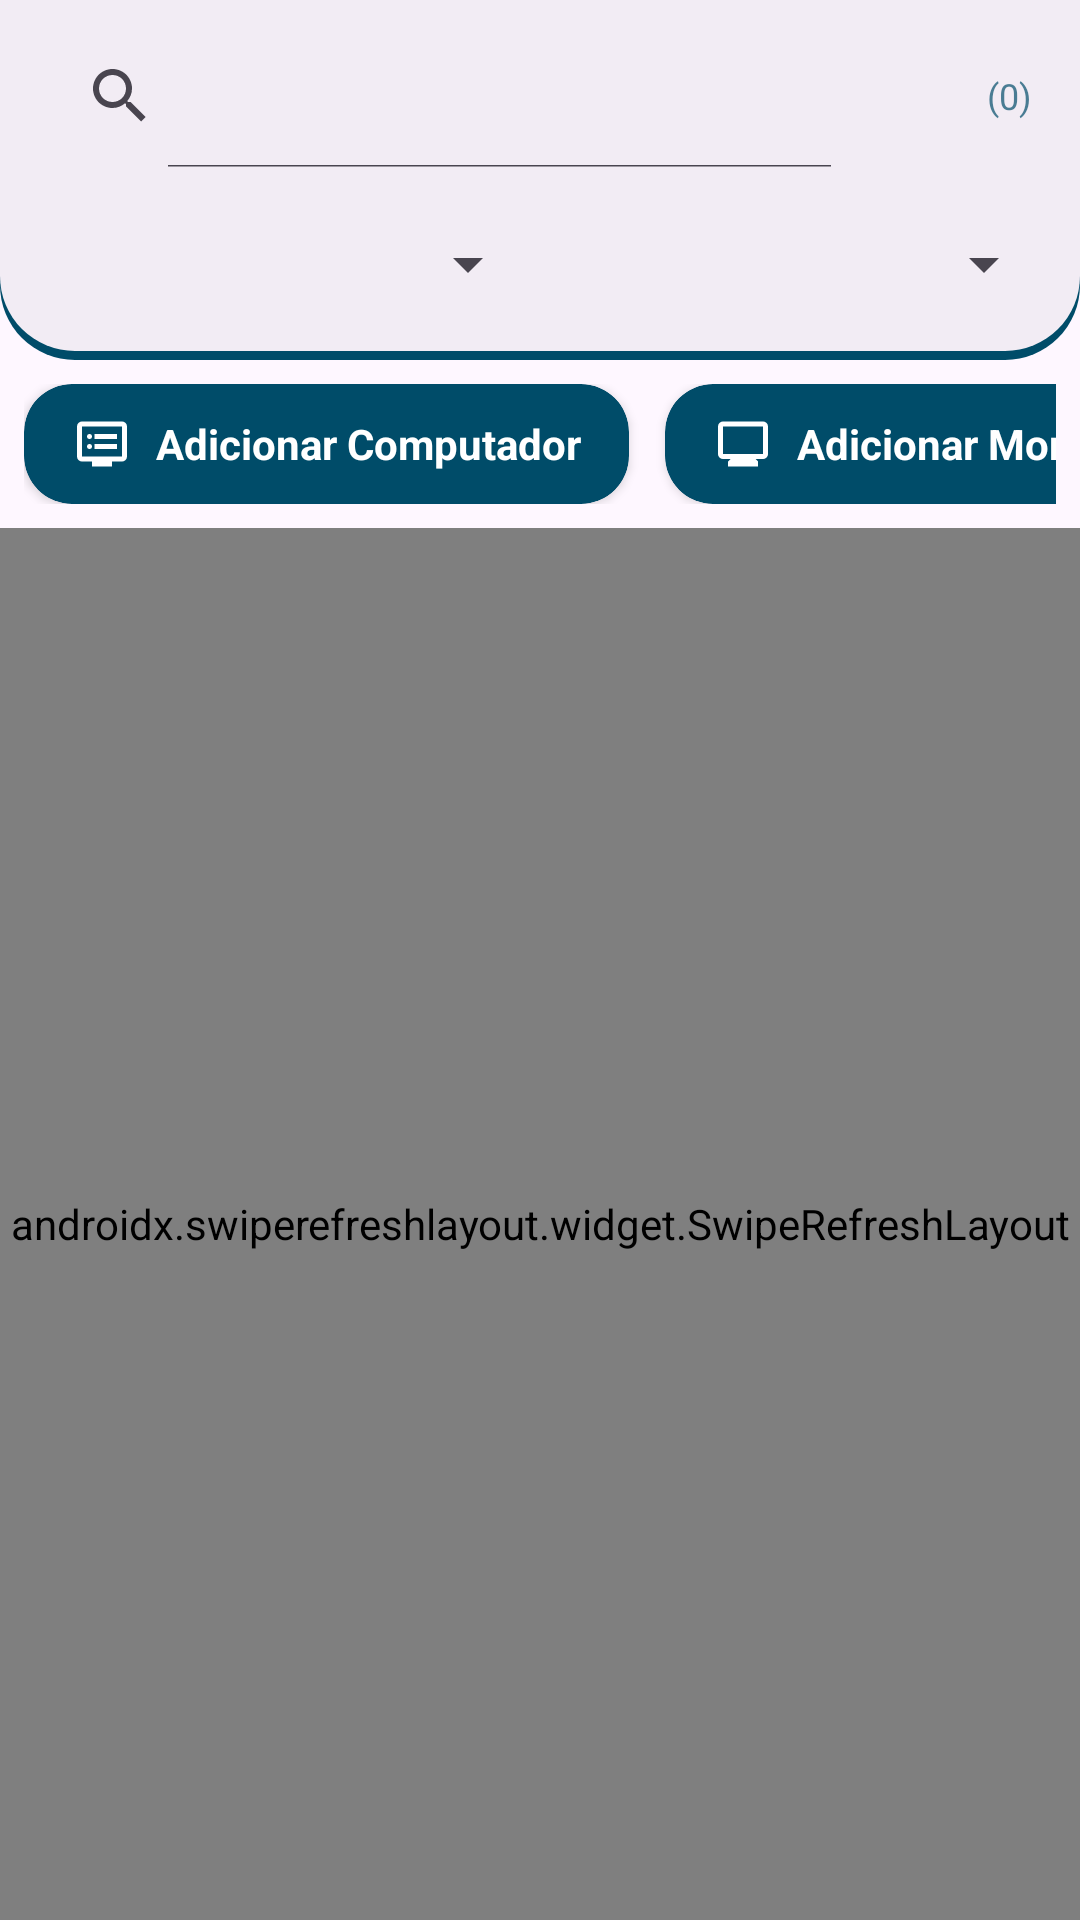

Where to tap for icons on this 1080x1920 app screen, as [x,y]:
computer: [102,444]
